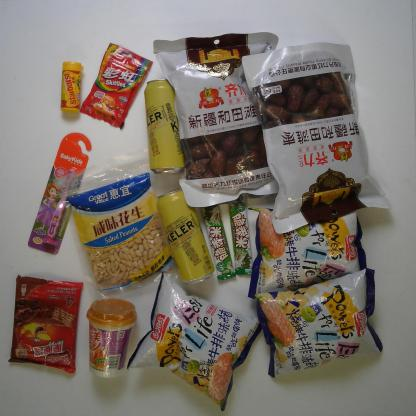Alcohol: (156, 188, 212, 286), (143, 78, 184, 176)
Candy: (80, 42, 154, 128), (59, 61, 84, 114)
Chocolate: (199, 203, 236, 280), (226, 199, 254, 275)
Dessert: (8, 274, 82, 374)
Dried Food: (240, 42, 391, 235), (152, 31, 280, 210)
Dried Fruit: (67, 170, 173, 288)
Instant Drink: (89, 297, 136, 378)
Personal Hygiene: (26, 132, 92, 255)
Puffed Food: (123, 272, 261, 412), (252, 266, 384, 378), (246, 206, 367, 299)
